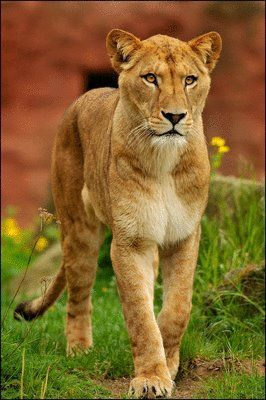lion: (23, 27, 225, 393)
